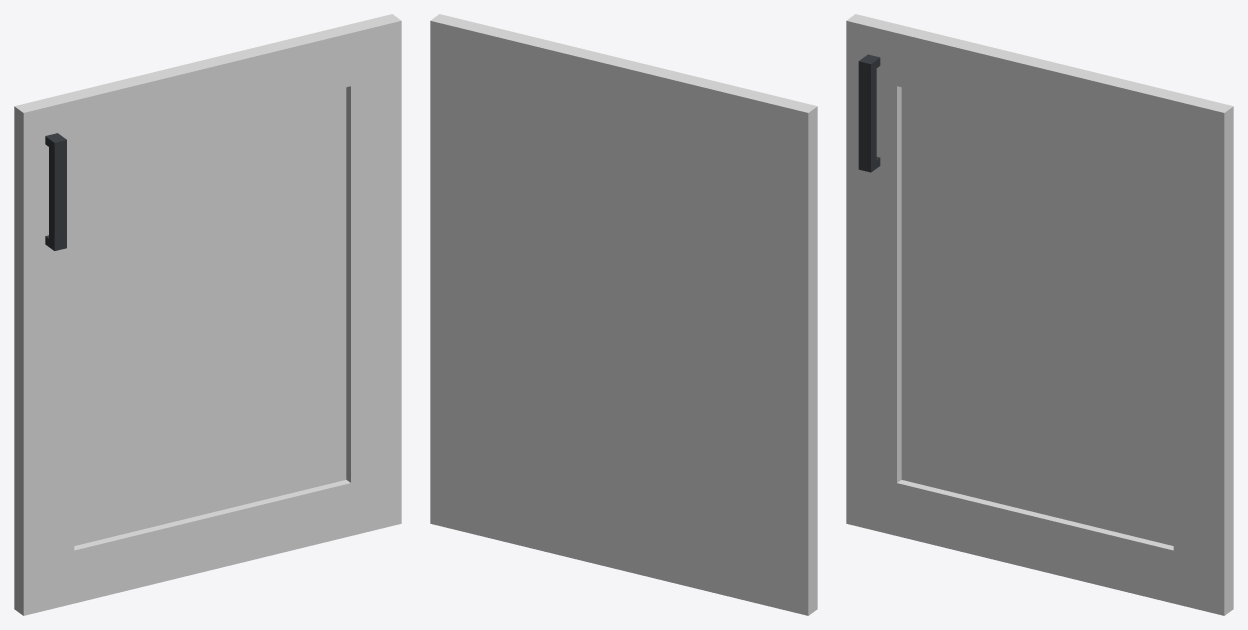
Rendered from Door2_C1_01.fbx.
The picture shows the model from 3 angles, left to right: view 1: azimuth 30°, elevation 25°; view 2: azimuth 150°, elevation 25°; view 3: azimuth 330°, elevation 25°; orthographic projection.
Visible parts, largest first — view 1: Door2_C1_01; view 2: Door2_C1_01; view 3: Door2_C1_01.
Part boxes in pixels (x1,y1,x2,y2): Door2_C1_01: (14, 14, 401, 615); Door2_C1_01: (430, 14, 817, 615); Door2_C1_01: (846, 14, 1233, 615).
Bounding box in the file's own units: 59 × 75 × 5.03.
